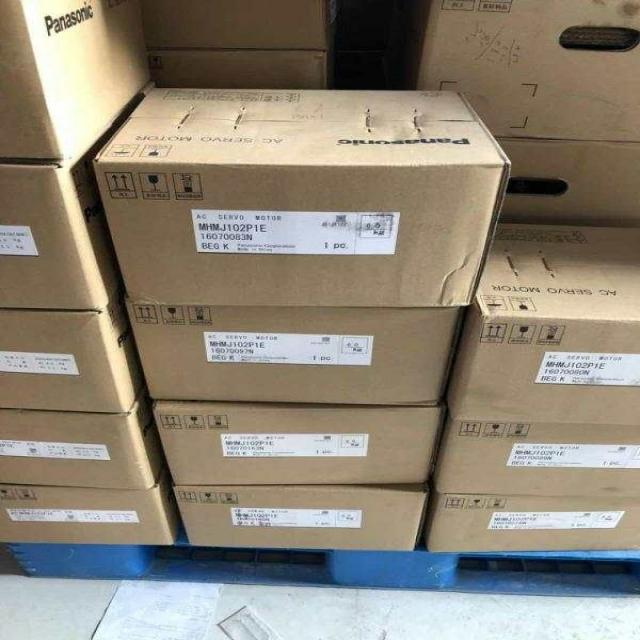box: (90, 86, 513, 306), (445, 224, 640, 426), (126, 306, 466, 405), (416, 0, 640, 143), (0, 117, 123, 312), (153, 402, 445, 484), (0, 0, 149, 158), (429, 410, 640, 498), (173, 482, 428, 553), (0, 290, 145, 412), (138, 0, 341, 86), (0, 388, 167, 490), (421, 484, 640, 552), (0, 467, 179, 546), (494, 137, 640, 227)
